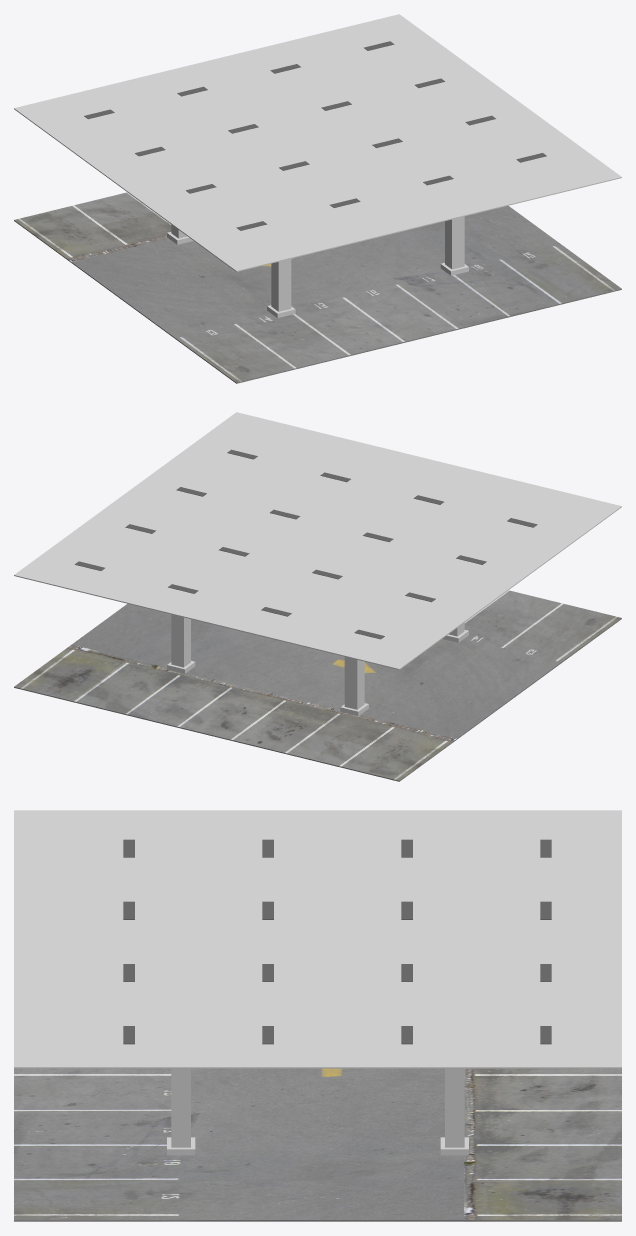
Rendered from uploads_files_3133035_Parking+Garage.fbx.
3 renders of one model, top to bottom at view 1: azimuth 30°, elevation 25°; view 2: azimuth 150°, elevation 25°; view 3: azimuth 270°, elevation 25°, orthographic. The views are drawn at different scales.
Visible parts, largest first — view 1: Cube.005, Cube, Cube.006, Cube.004, Cube.003; view 2: Cube.005, Cube, Cube.006, Cube.002, Cube.001; view 3: Cube.005, Cube, Cube.006, Cube.001, Cube.003.
Part boxes in pixels (x1,y1,x2,y2): Cube.005: (14, 14, 621, 271); Cube: (14, 192, 621, 383); Cube.006: (84, 41, 546, 230); Cube.004: (267, 259, 295, 317); Cube.003: (440, 216, 468, 275); Cube.005: (14, 412, 621, 669); Cube: (14, 590, 621, 781); Cube.006: (75, 449, 537, 639); Cube.002: (340, 657, 368, 715); Cube.001: (167, 614, 195, 673); Cube.005: (14, 810, 621, 1068); Cube: (14, 1068, 621, 1221); Cube.006: (123, 839, 551, 1044); Cube.001: (440, 1068, 468, 1155); Cube.003: (167, 1068, 195, 1155).
Size of the model in its own units: 20000 by 5606 by 20000.
